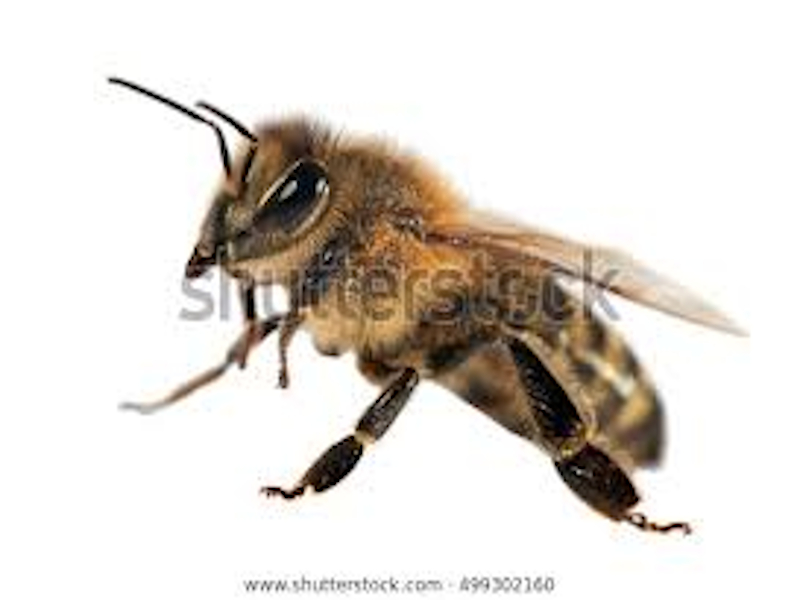abeja: (92, 28, 745, 534)
